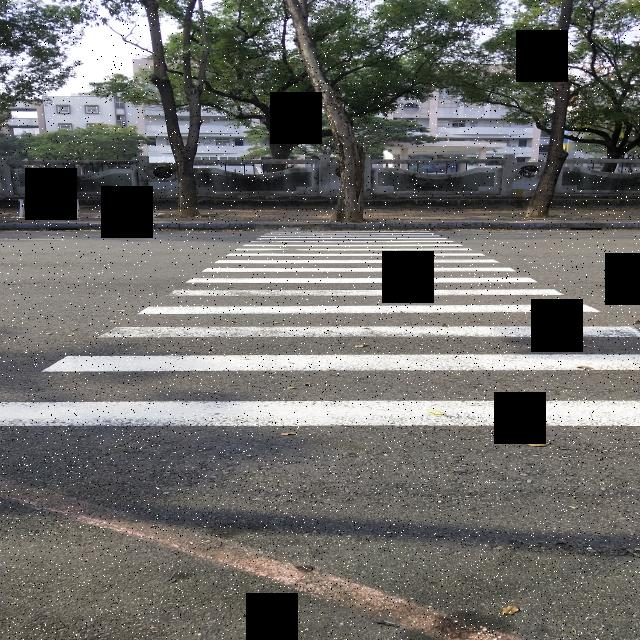zebra_crossing: (0, 227, 638, 430)
